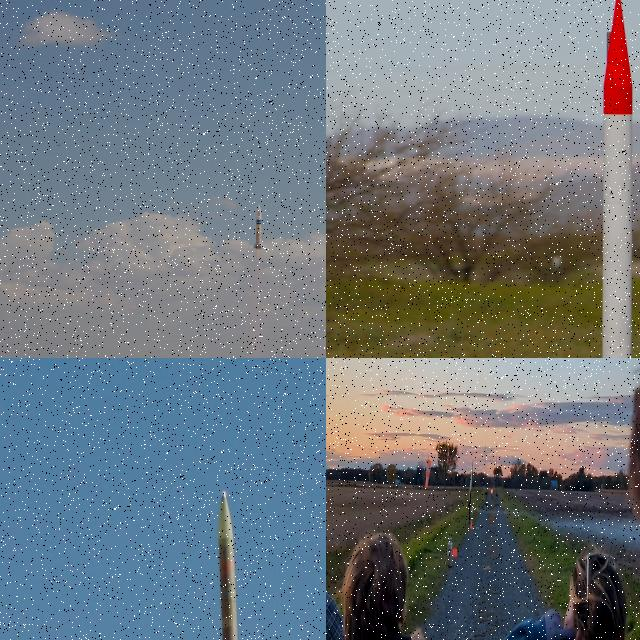Rocket: (548, 0, 640, 358), (208, 490, 250, 640), (248, 204, 269, 250), (468, 471, 473, 508)
